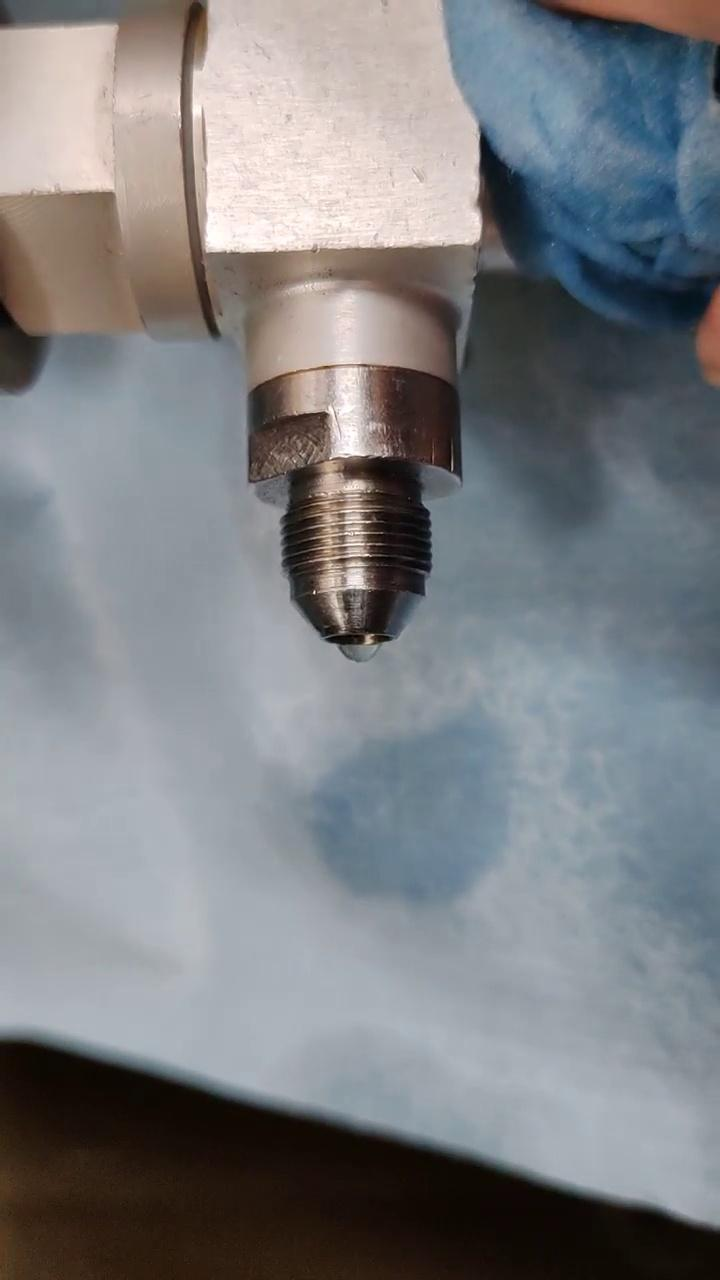water drop: (340, 638, 380, 664)
